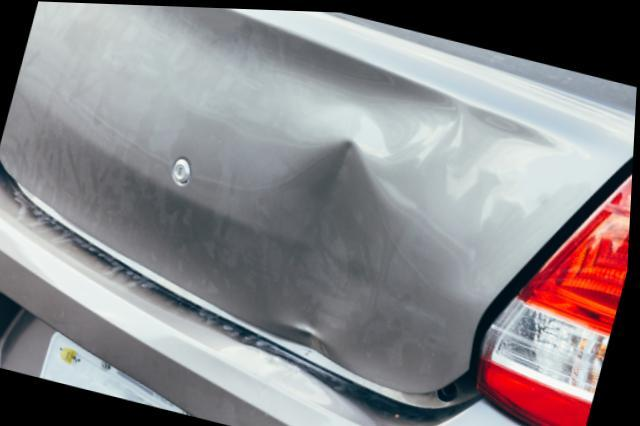dent: (260, 138, 396, 357)
